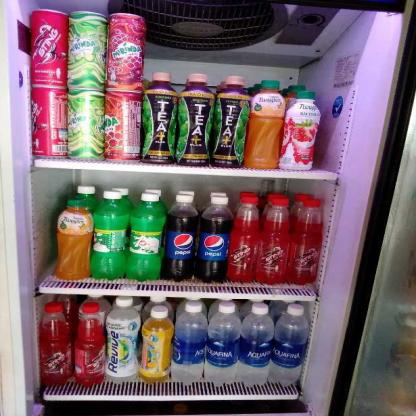7up-chai: (126, 190, 162, 283), (92, 189, 126, 279)
aquafina: (237, 300, 272, 388), (172, 300, 206, 386), (272, 303, 308, 384), (205, 301, 239, 386)
mirinda-sodakem: (66, 10, 107, 88), (65, 86, 105, 162)
mirinda-xaxi: (107, 12, 144, 91), (104, 88, 142, 163)
olong-tea: (140, 71, 177, 165), (177, 72, 213, 166), (212, 75, 246, 168)
pepsi-blue-chai: (164, 192, 198, 283), (198, 194, 229, 284)
revive-chanhmuoi-chai: (141, 303, 174, 385)
revive-white-chai: (105, 295, 140, 384)
string-red: (26, 85, 68, 159), (28, 9, 67, 88)
string-red-chai: (36, 300, 71, 386), (287, 198, 320, 284), (73, 301, 105, 389), (258, 194, 289, 284), (228, 194, 258, 284)
twister-cam: (53, 198, 92, 282), (247, 79, 281, 169)
twister-dau: (281, 90, 320, 170)
